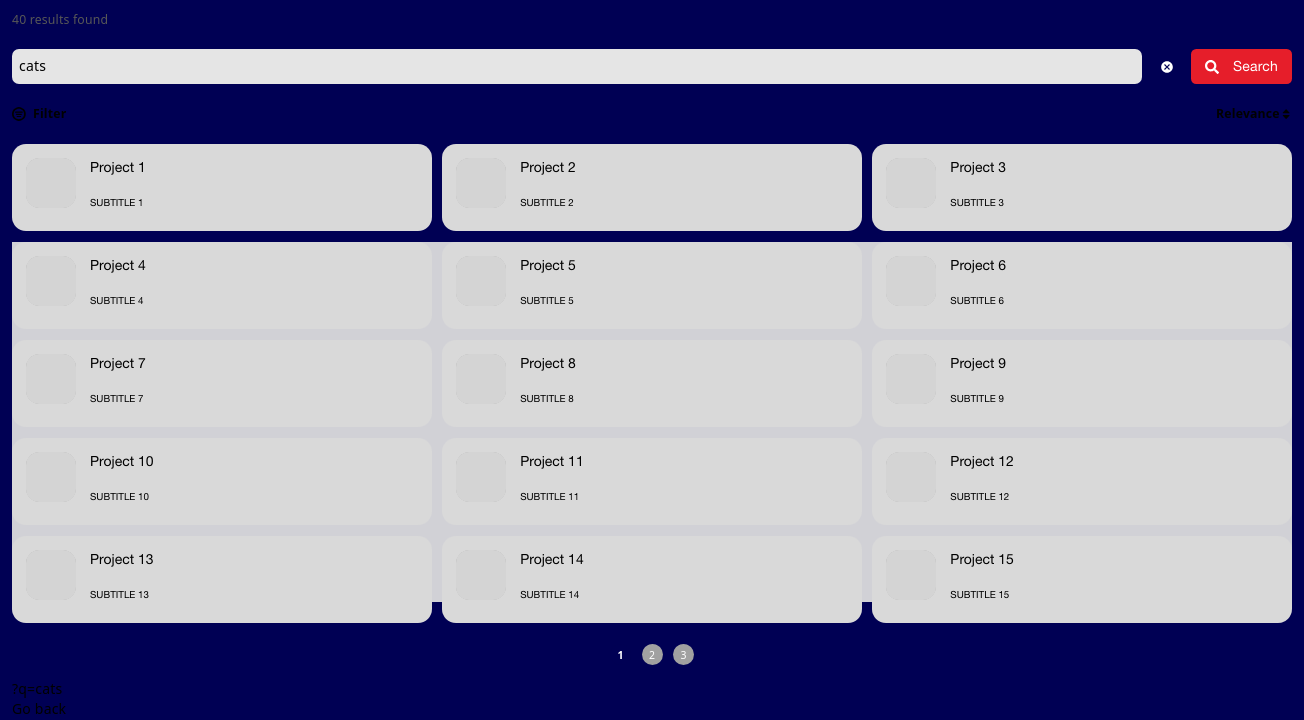
SearchResultsPage › pagination › loads the chosen page and puts it in the address
The width and height of the screenshot is (1304, 720).
(page scrolled)
Check: the text "40 results found" is shown, box [12, 11, 108, 28]
Click the button "2" at (652, 655), box [642, 644, 662, 665]
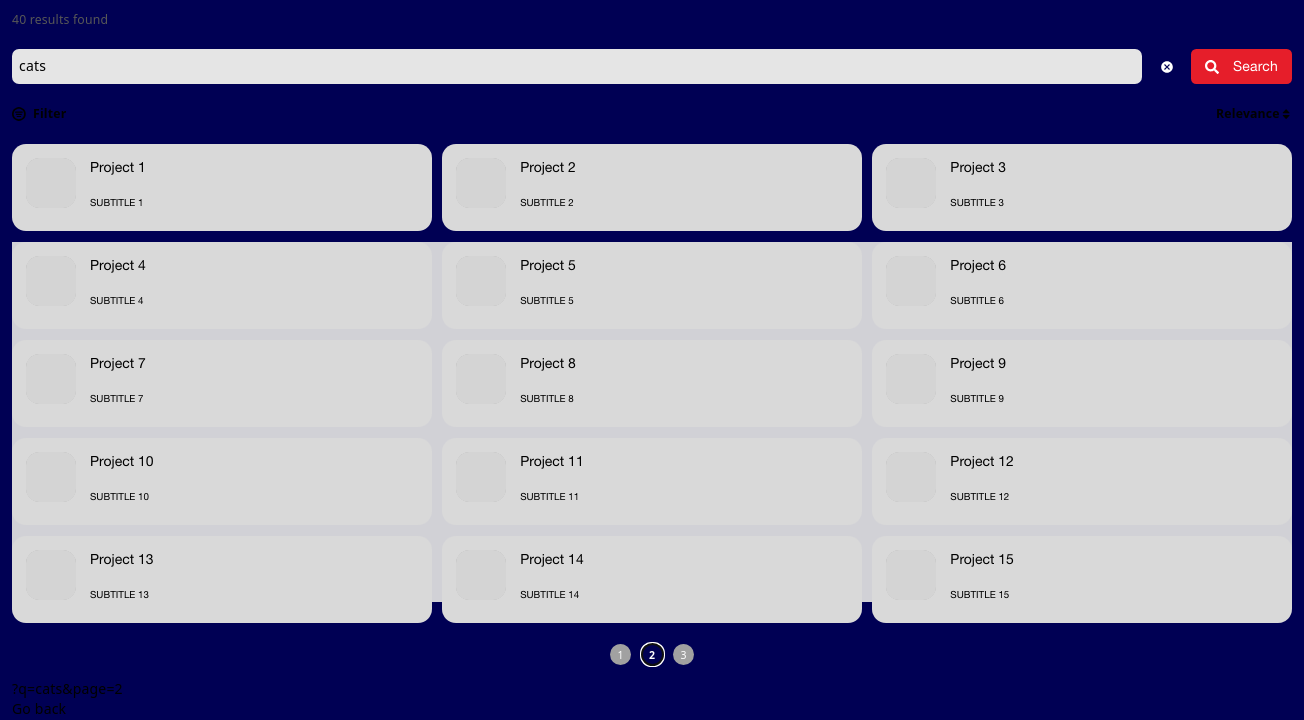
Check: the text with test id "location" reads "?q=cats&page=2", box [12, 679, 123, 698]
